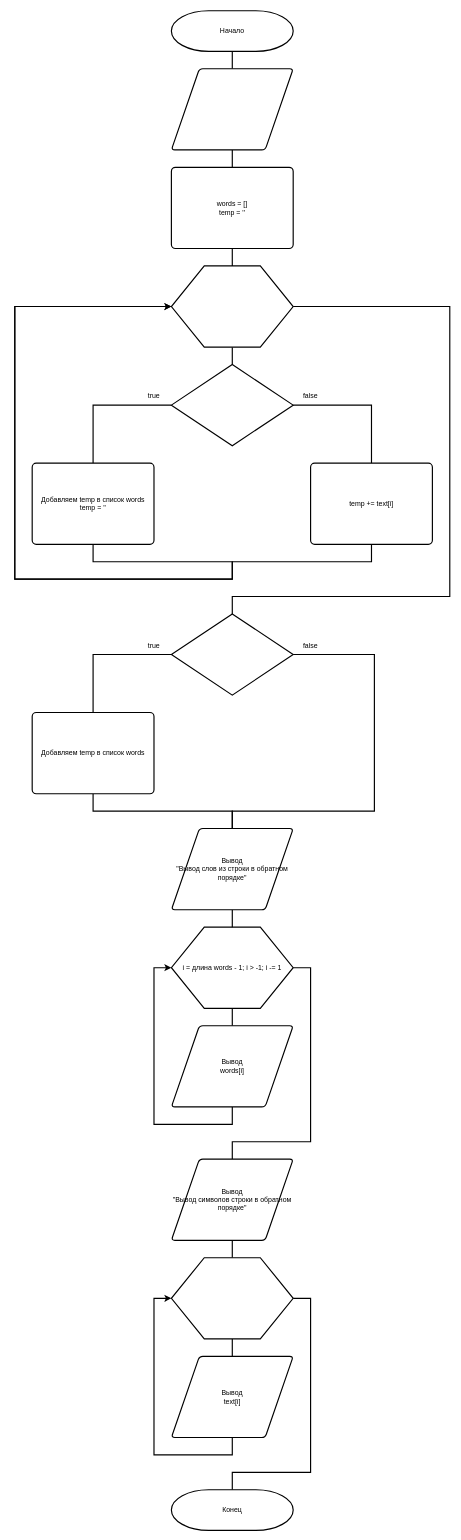
Some shapes in this 461 by 1540 pixel diagram are drawn without their labels. Here are the shapes that lost their labels. From the top down, the centre of each, then its label:
At (232,109): "Ввод в text".
At (232,306): "i = 0; i < длина text; i += 1".
At (232,405): "text[i] == ' '".
At (232,654): "temp осталась".
At (232,1298): "i = длина text - 1; i > -1; i -= 1".
